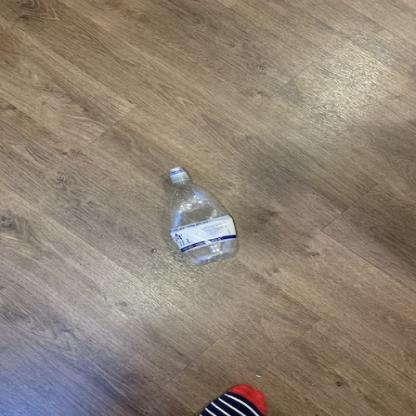trash: (162, 166, 242, 266)
